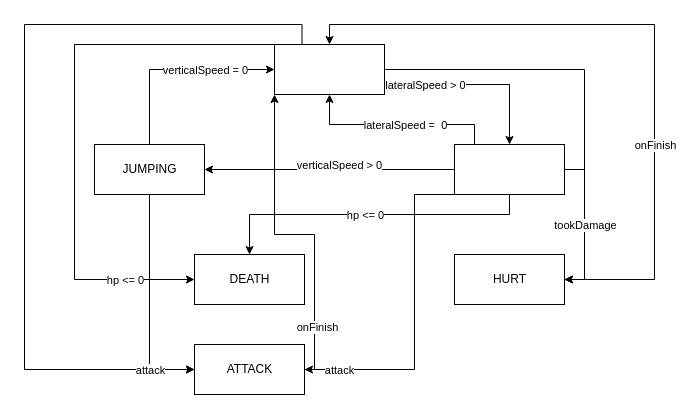
The diagram is 693 pixels wide and 412 high, and some of its shapes have lost their labels. The centre of each missing label's shape, as x and y in pixels:
IDLE: point 329,69
RUNNING: point 509,169
